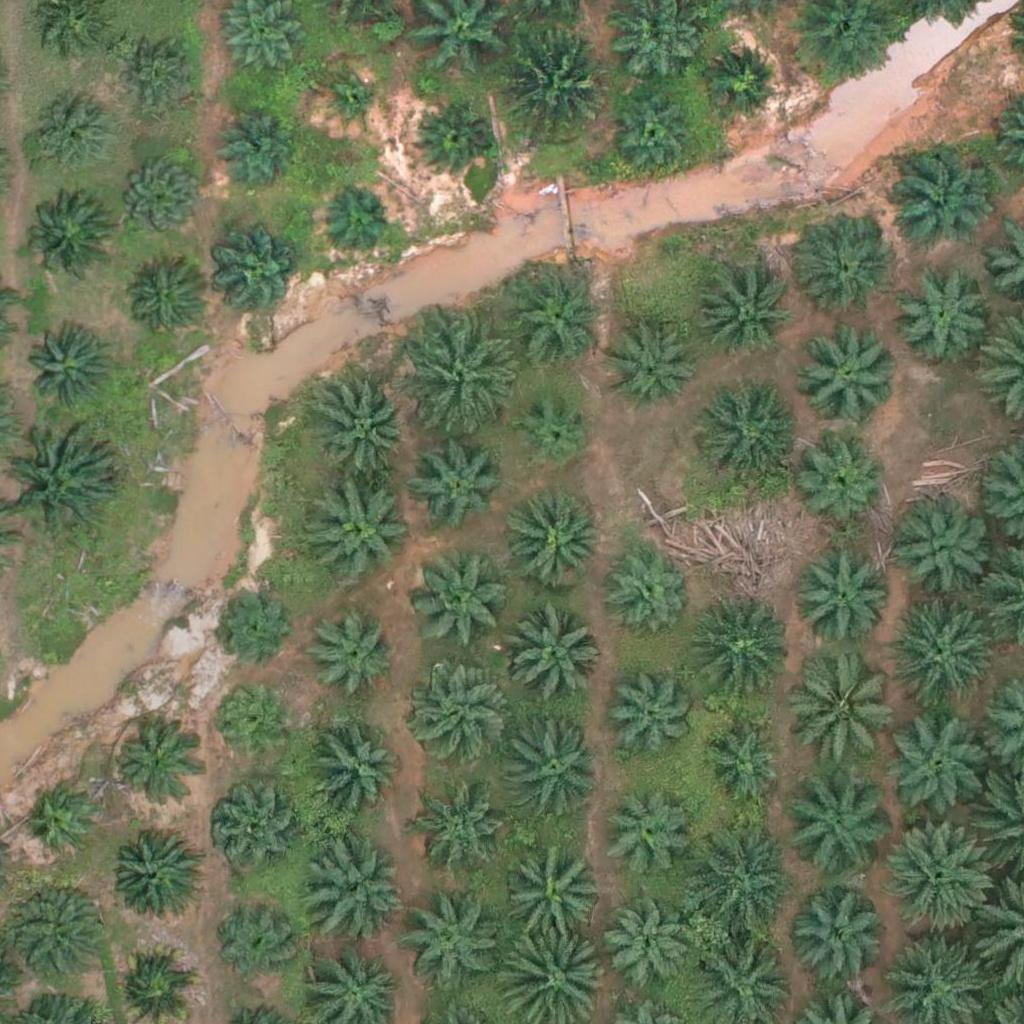Kelapa_Sawit: (403, 321, 516, 435), (780, 771, 893, 884), (687, 826, 800, 939), (881, 592, 994, 705), (1, 426, 114, 539), (503, 23, 615, 136), (882, 818, 994, 931), (790, 655, 902, 768), (508, 269, 608, 370), (886, 147, 986, 248), (794, 212, 894, 313), (694, 261, 794, 362), (785, 889, 885, 990), (508, 849, 608, 950), (400, 897, 500, 998), (891, 499, 991, 600), (884, 713, 984, 814), (796, 547, 896, 648), (799, 322, 899, 423), (695, 382, 795, 483), (408, 663, 508, 764), (300, 604, 400, 705), (890, 263, 990, 363), (306, 724, 406, 824), (309, 840, 409, 940), (8, 878, 108, 978), (690, 601, 790, 701), (504, 490, 604, 590), (504, 603, 604, 703), (503, 718, 603, 818), (412, 548, 512, 648), (316, 378, 416, 478), (307, 484, 407, 584), (216, 232, 304, 320), (699, 37, 787, 125), (599, 793, 687, 881), (603, 905, 691, 993), (422, 794, 510, 882), (210, 681, 298, 769), (214, 899, 302, 987), (699, 714, 787, 802), (609, 324, 697, 412), (121, 259, 208, 347), (116, 152, 203, 240), (116, 31, 203, 119), (26, 91, 113, 179), (22, 191, 109, 279), (214, 99, 301, 187), (612, 92, 699, 180), (212, 782, 299, 870), (114, 723, 201, 811), (110, 828, 197, 916), (799, 434, 886, 522), (606, 668, 693, 756), (603, 545, 690, 633), (413, 445, 500, 533), (212, 582, 299, 670), (27, 328, 114, 416), (26, 785, 101, 861), (414, 100, 489, 176), (517, 394, 592, 470), (320, 183, 395, 258), (321, 72, 384, 135)
